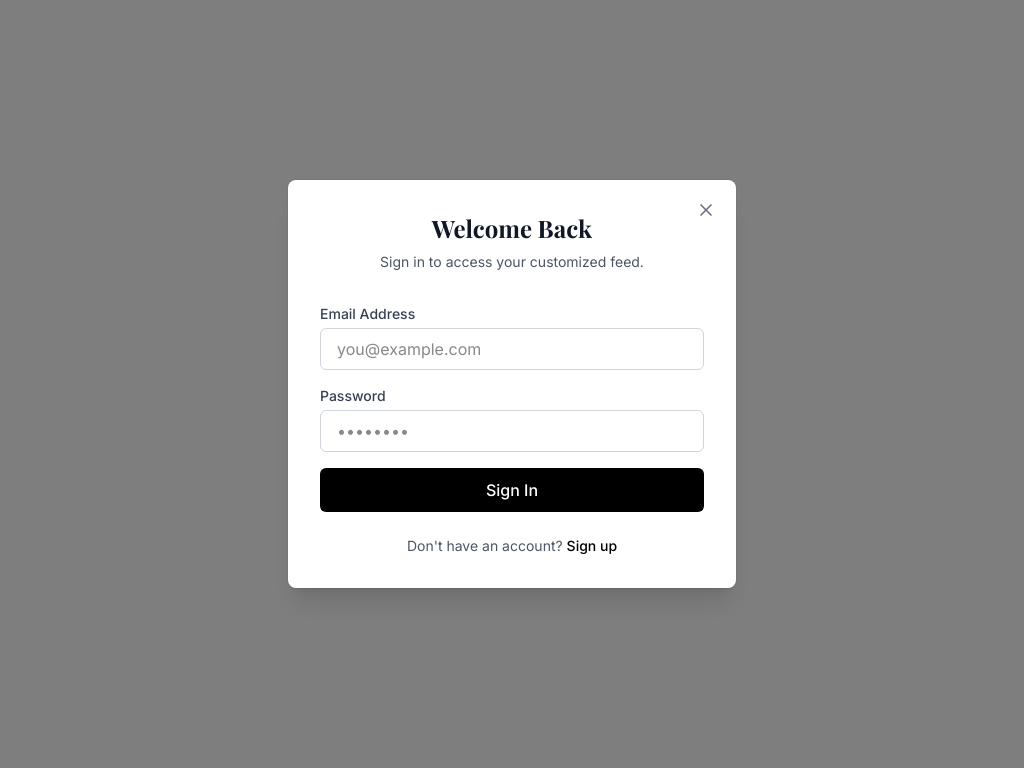
AuthModal › displays error message on failure
Type "test@test.com" into the field with placeholder "you@example.com" at (512, 349), box [320,328,704,370]
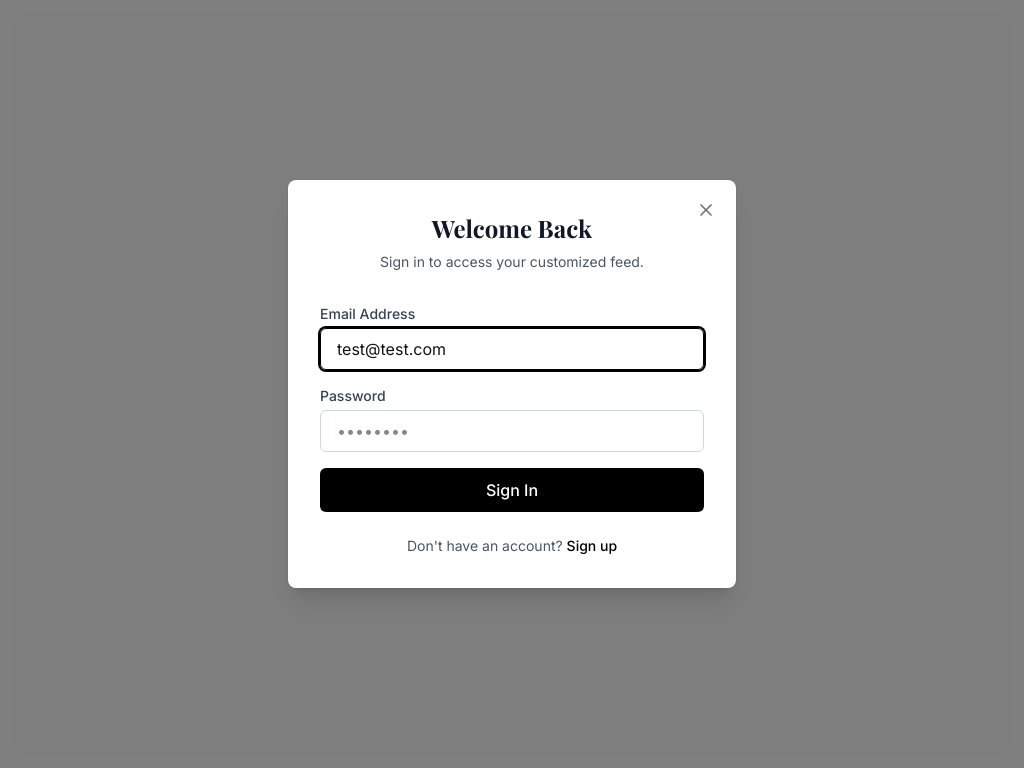
Type "wrong" into the password field with placeholder "••••••••" at (512, 431), box [320,410,704,452]
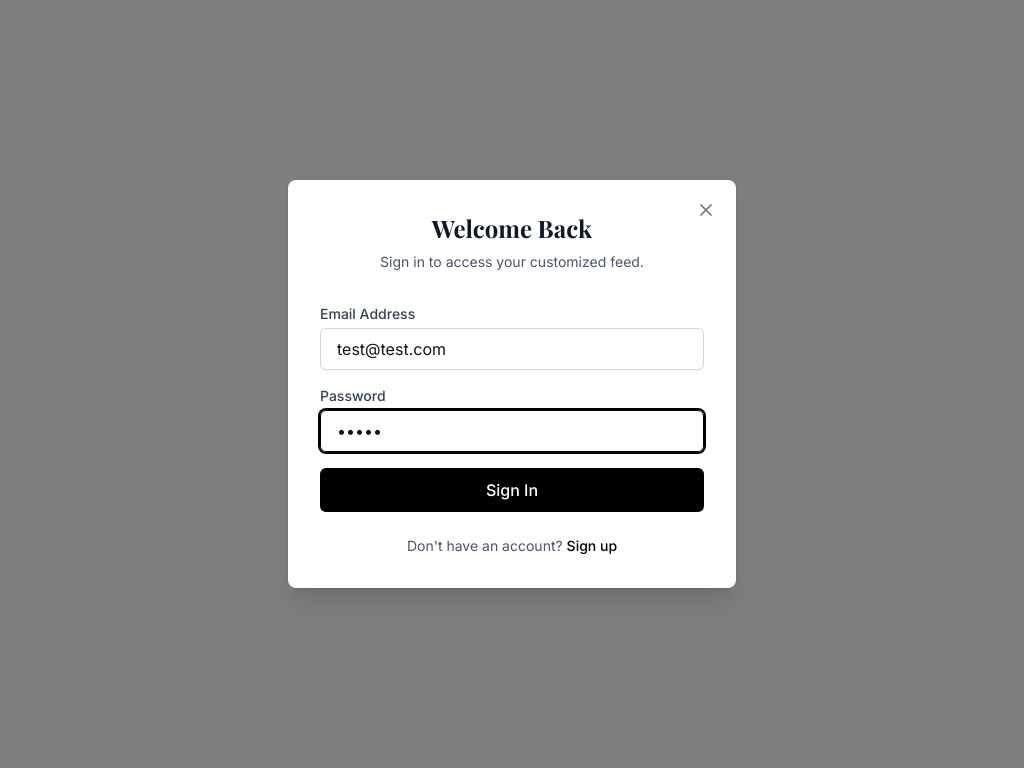
Click the button "Sign In" at (512, 490), box [320,468,704,512]
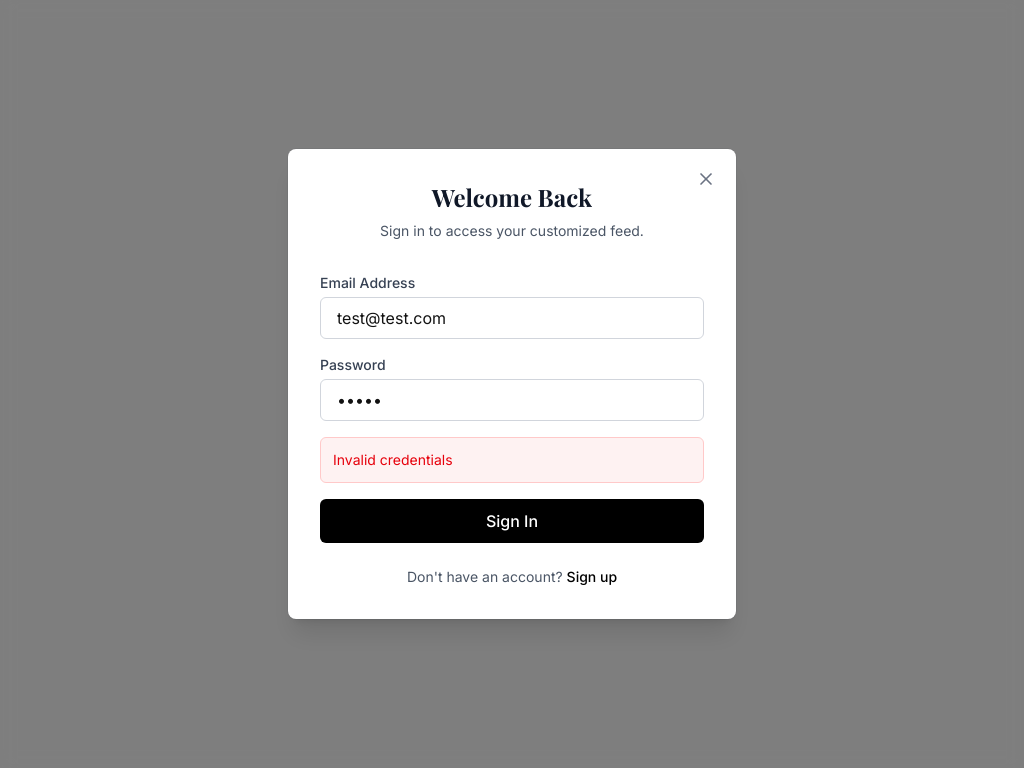
Result: the text "Invalid credentials" is shown at [320,437,704,483]
